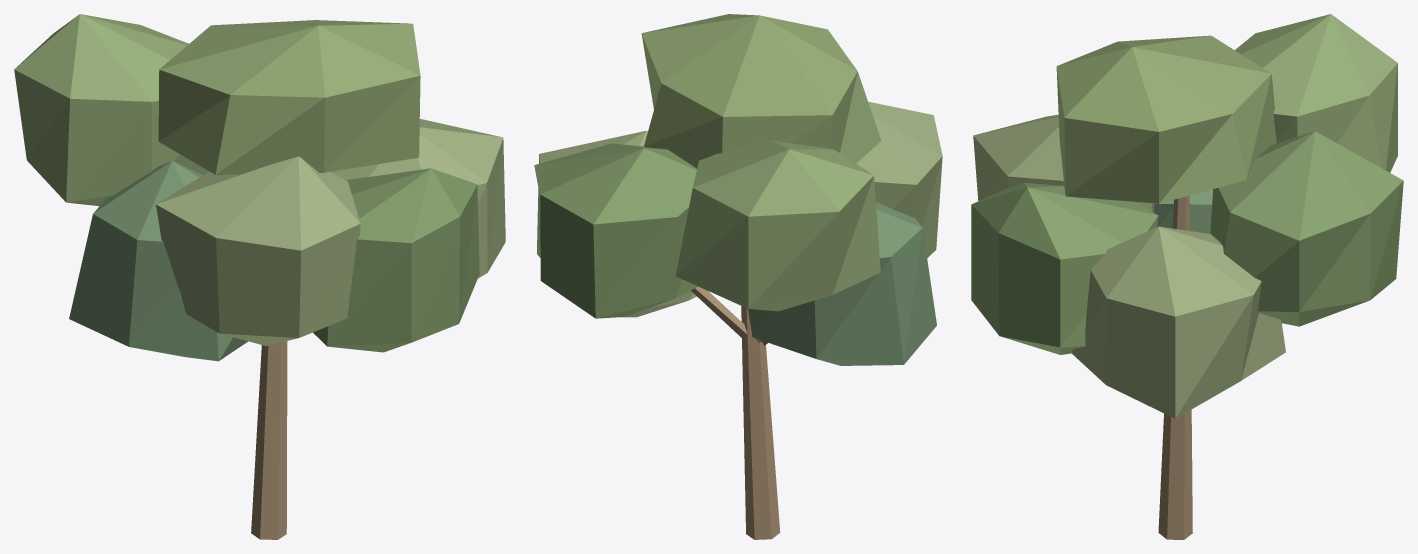
3 views of the same model, side by side, from view 1: azimuth 30°, elevation 25°; view 2: azimuth 150°, elevation 25°; view 3: azimuth 270°, elevation 25° (orthographic). The views are drawn at different scales.
Bounding box in the file's own units: 6.89 × 8.33 × 6.54.
